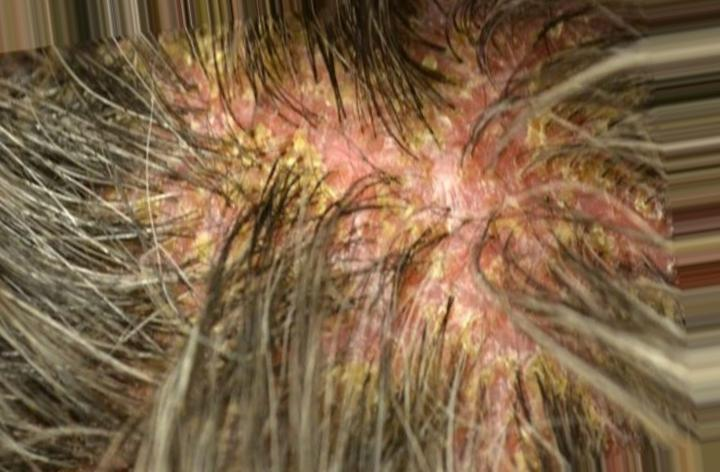Folliculitis: (166, 38, 613, 288)
